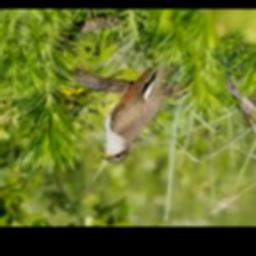Cuckoo: (98, 59, 169, 163)
